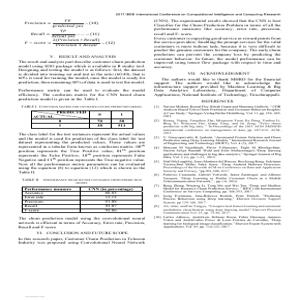table: (18, 183, 148, 216), (21, 109, 142, 131)
text: (151, 19, 284, 231), (13, 52, 147, 102), (18, 133, 147, 176), (16, 217, 148, 248)
